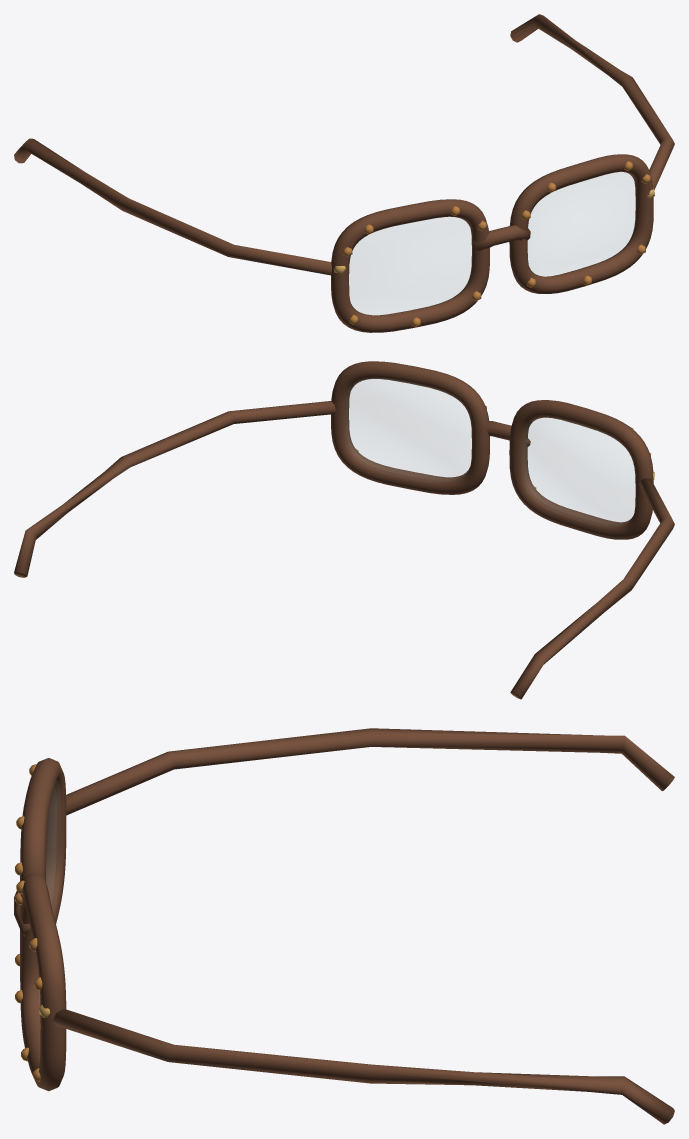
File: 03-tortoise-club.glb
The picture shows the model from 3 angles, top to bottom: view 1: azimuth 30°, elevation 25°; view 2: azimuth 150°, elevation 25°; view 3: azimuth 270°, elevation 25°; orthographic projection. The views are drawn at different scales.
Parts seen in each view (by area): view 1: Glasses03_Lens-12, Glasses03_Lens14, Glasses03_Rim-11, Glasses03_Rim13, Glasses03_Temple-16, Glasses03_Temple18, Glasses03_Bridge5; view 2: Glasses03_Lens14, Glasses03_Lens-12, Glasses03_Rim13, Glasses03_Rim-11, Glasses03_Temple18, Glasses03_Temple-16; view 3: Glasses03_Temple-16, Glasses03_Temple18, Glasses03_Rim13, Glasses03_Rim-11, Glasses03_Lens-12.
Part boxes in pixels (bbox=[...]): Glasses03_Lens-12: bbox=[349, 217, 471, 314]; Glasses03_Lens14: bbox=[528, 172, 635, 275]; Glasses03_Rim-11: bbox=[331, 199, 489, 332]; Glasses03_Rim13: bbox=[509, 154, 653, 293]; Glasses03_Temple-16: bbox=[14, 138, 331, 275]; Glasses03_Temple18: bbox=[510, 14, 674, 189]; Glasses03_Bridge5: bbox=[472, 225, 530, 252]; Glasses03_Lens14: bbox=[346, 379, 471, 480]; Glasses03_Lens-12: bbox=[523, 418, 634, 524]; Glasses03_Rim13: bbox=[331, 361, 489, 494]; Glasses03_Rim-11: bbox=[509, 400, 653, 539]; Glasses03_Temple18: bbox=[14, 401, 336, 577]; Glasses03_Temple-16: bbox=[510, 478, 674, 699]; Glasses03_Temple-16: bbox=[65, 728, 674, 815]; Glasses03_Temple18: bbox=[53, 1009, 674, 1124]; Glasses03_Rim13: bbox=[20, 872, 66, 1091]; Glasses03_Rim-11: bbox=[20, 758, 66, 923]; Glasses03_Lens-12: bbox=[46, 787, 56, 903].
Size of the model in its own units: 0.6389 by 0.144 by 0.5114.
